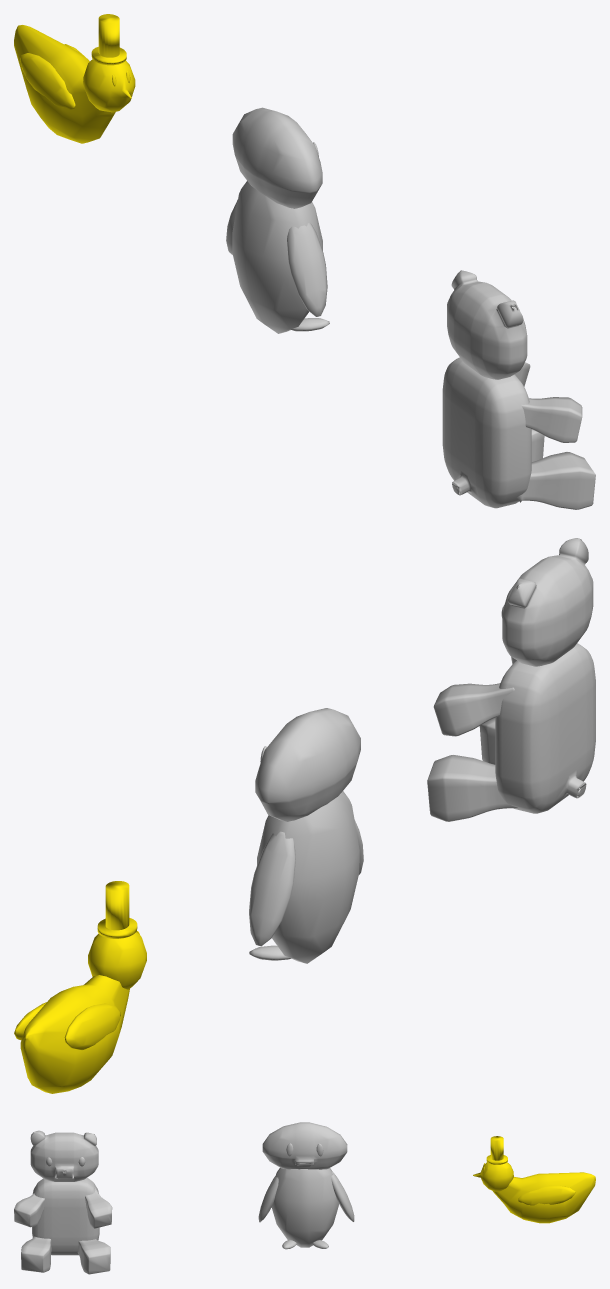
Rendered from игрушки .fbx.
3 views of the same model, one above another, from view 1: azimuth 30°, elevation 25°; view 2: azimuth 150°, elevation 25°; view 3: azimuth 270°, elevation 25° (orthographic). The views are drawn at different scales.
Parts seen in each view (by area): view 1: Куб.007, Куб.010, Куб.001; view 2: Куб.007, Куб.010, Куб.001; view 3: Куб.007, Куб.010, Куб.001.
Part boxes in pixels (x1,y1,x2,y2): Куб.007: [442, 270, 595, 509]; Куб.010: [226, 107, 329, 333]; Куб.001: [14, 14, 135, 143]; Куб.007: [427, 538, 595, 821]; Куб.010: [249, 708, 363, 963]; Куб.001: [14, 881, 146, 1093]; Куб.007: [14, 1130, 112, 1274]; Куб.010: [258, 1122, 354, 1249]; Куб.001: [473, 1136, 595, 1223].
Size of the model in its own units: 222 by 428 by 1718.
